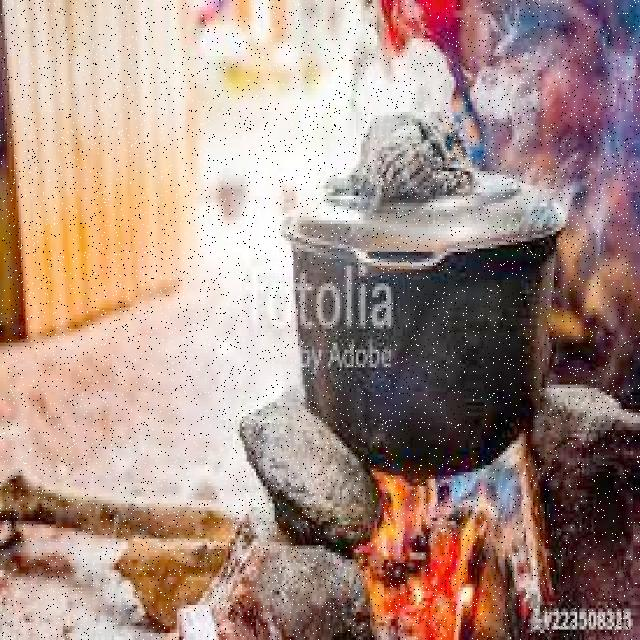fire: (372, 465, 499, 640)
